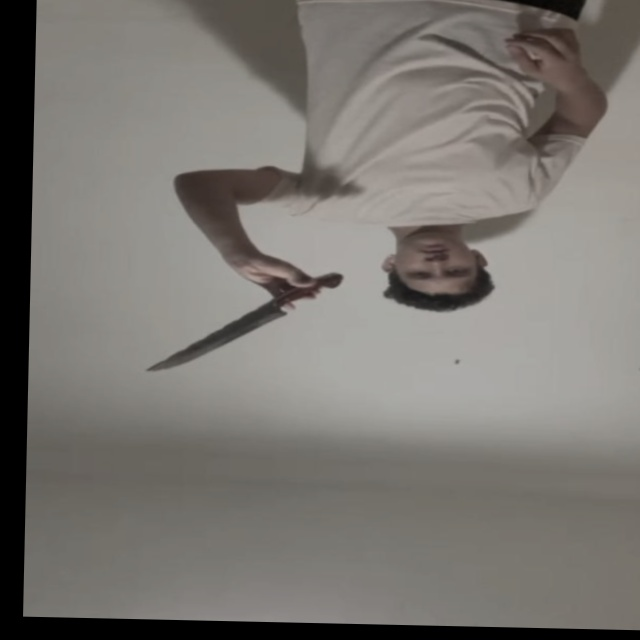Sharp-Object: (148, 307, 291, 375)
